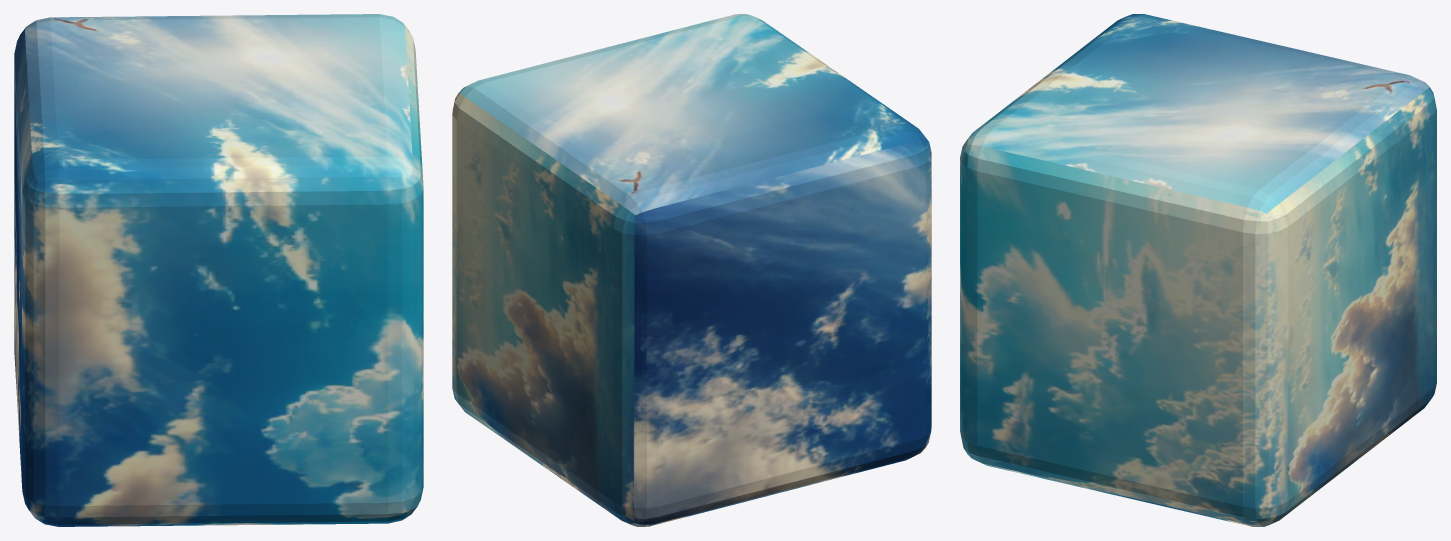
The model's file is 010_Candy_Box_04.fbx.
The picture shows the model from 3 angles, left to right: view 1: azimuth 30°, elevation 25°; view 2: azimuth 150°, elevation 25°; view 3: azimuth 270°, elevation 25°; orthographic projection. The views are drawn at different scales.
Visible parts, largest first — view 1: Cube.004; view 2: Cube.004; view 3: Cube.004.
Part boxes in pixels (x1=…): Cube.004: x1=14, y1=14, x2=423, y2=526; Cube.004: x1=452, y1=14, x2=931, y2=526; Cube.004: x1=960, y1=14, x2=1436, y2=526.
Size of the model in its own units: 146 by 113 by 146.
